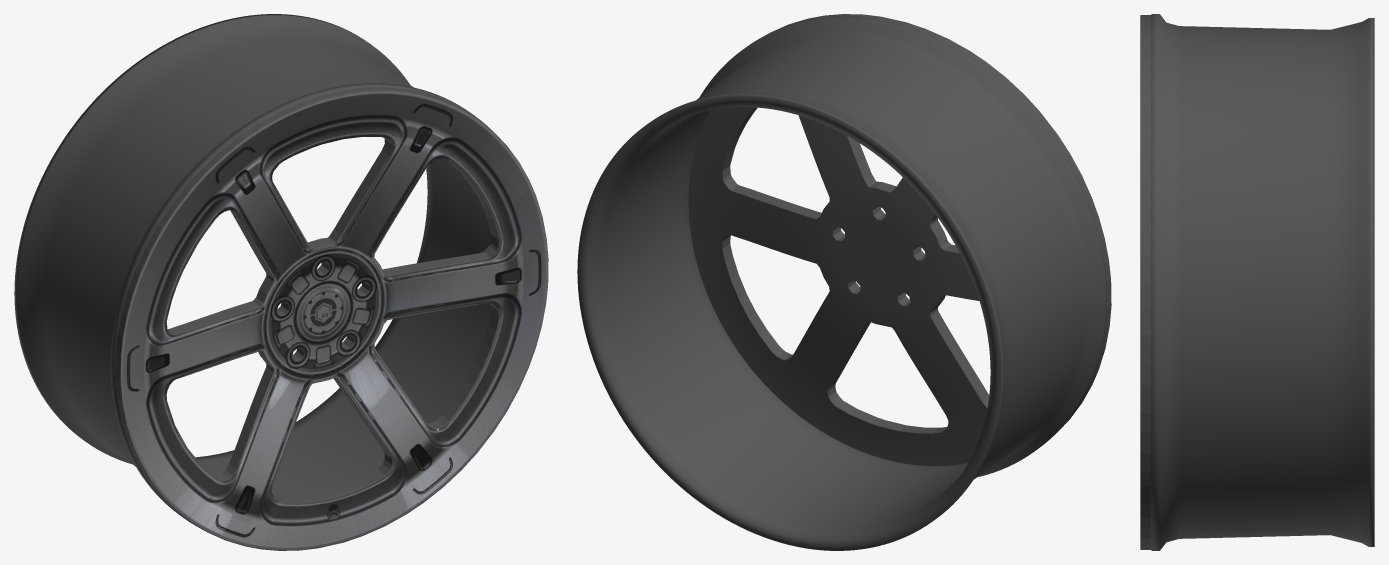
File: e6-monoblock-ks1.glb
3 views of the same model, side by side, from view 1: azimuth 30°, elevation 25°; view 2: azimuth 150°, elevation 25°; view 3: azimuth 270°, elevation 25° (orthographic). The views are drawn at different scales.
Visible parts, largest first — view 1: Photo_traced_face_0, Approximate_rear_barrel; view 2: Approximate_rear_barrel, Photo_traced_face_0; view 3: Approximate_rear_barrel, Photo_traced_face_0.
Part boxes in pixels (x1,y1,x2,y2): Photo_traced_face_0: [115, 87, 548, 550]; Approximate_rear_barrel: [14, 14, 492, 529]; Approximate_rear_barrel: [577, 17, 1107, 550]; Photo_traced_face_0: [688, 14, 1111, 465]; Approximate_rear_barrel: [1150, 14, 1374, 550]; Photo_traced_face_0: [1140, 15, 1150, 549].
Size of the model in its own units: 2.06 by 2.06 by 0.9.
Materials: 2 (1 with a texture image).
